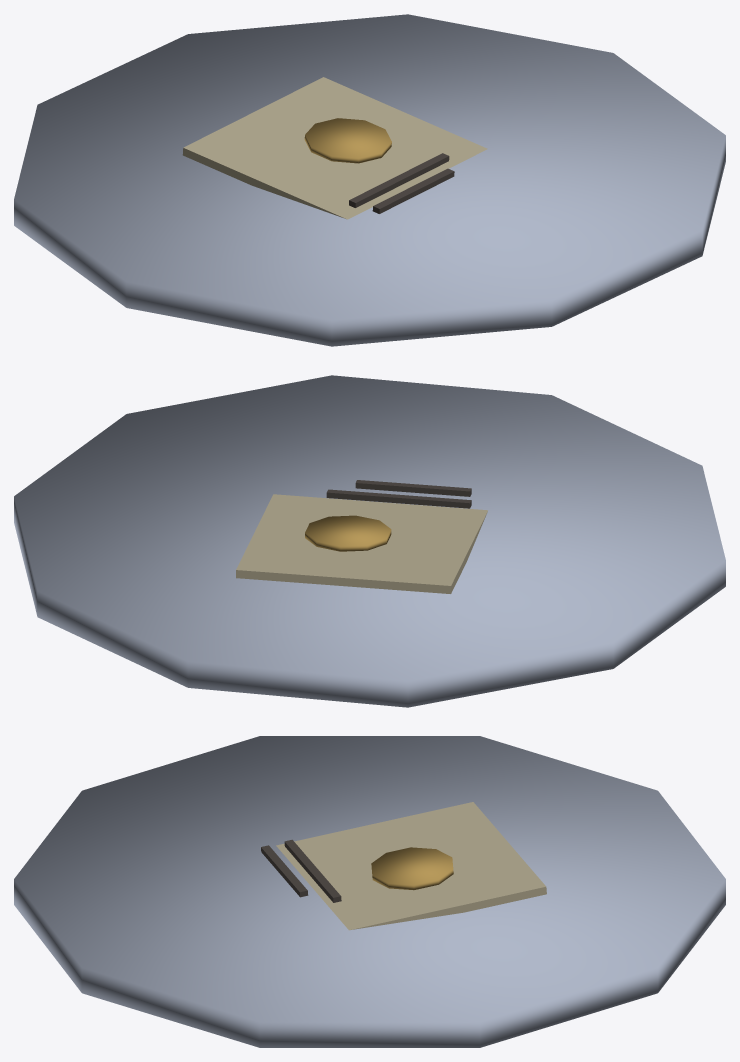
Rendered from blessed_pamphlet.glb.
3 renders of one model, top to bottom at view 1: azimuth 30°, elevation 25°; view 2: azimuth 150°, elevation 25°; view 3: azimuth 270°, elevation 25°, orthographic. The views are drawn at different scales.
Visible parts, largest first — view 1: blessed_pamphlet; view 2: blessed_pamphlet; view 3: blessed_pamphlet.
Boxes of the visible parts, box(x1,y1,x2,y2) form: blessed_pamphlet: box(14, 14, 725, 346); blessed_pamphlet: box(14, 375, 725, 707); blessed_pamphlet: box(14, 736, 725, 1047).
Bounding box in the file's own units: 0.4755 × 0.0321 × 0.5.
